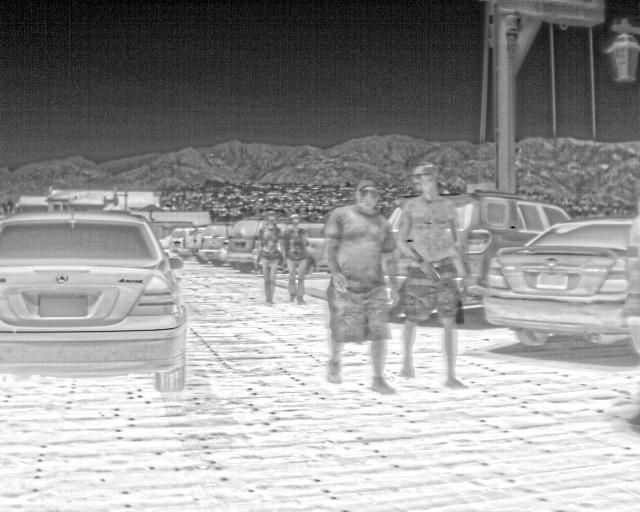bicycle: (1, 212, 190, 391), (483, 216, 637, 351), (456, 198, 576, 308), (228, 218, 266, 273), (201, 220, 232, 265)
empty: (386, 160, 470, 392), (321, 180, 397, 395), (280, 212, 309, 305), (255, 211, 284, 303)
